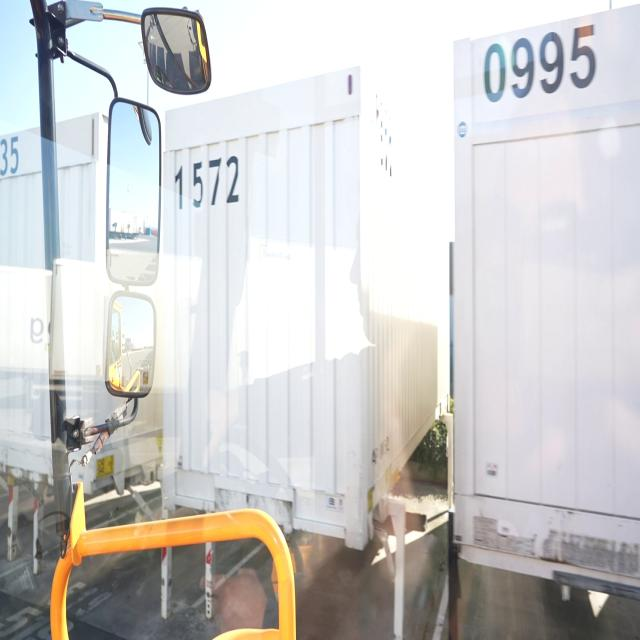Code: (482, 19, 603, 108), (170, 152, 244, 212)
